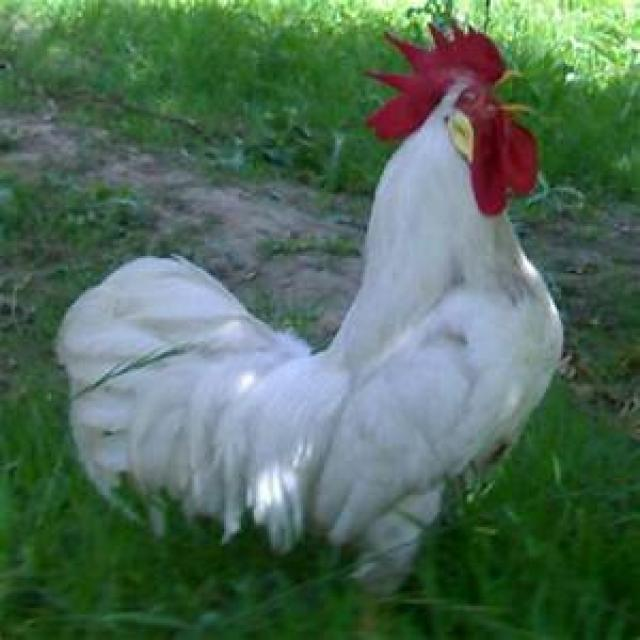hen: (55, 21, 565, 602)
